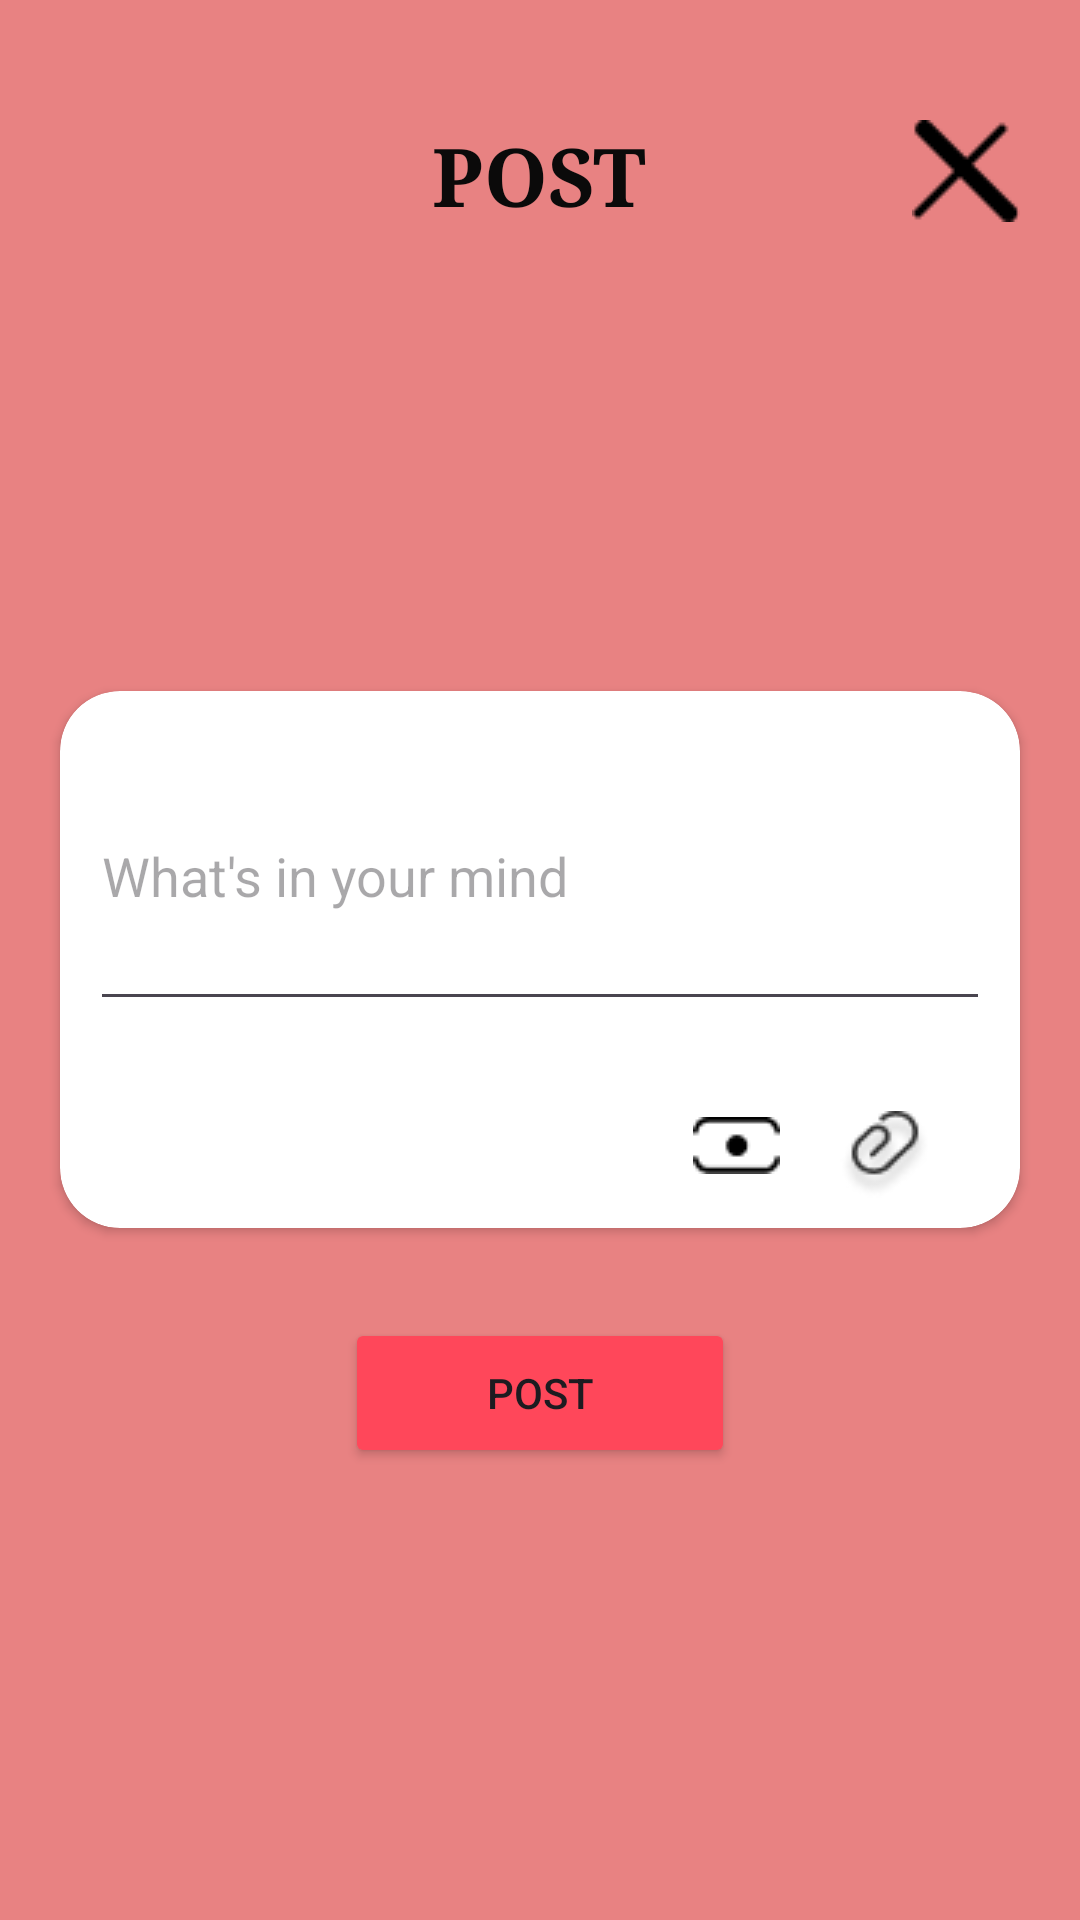

Where icons sit on this 1080px x 1920px app screen, as detection(x1, y1, x2, y2):
camera: detection(693, 1117, 780, 1174)
cross two: detection(912, 120, 1018, 222)
